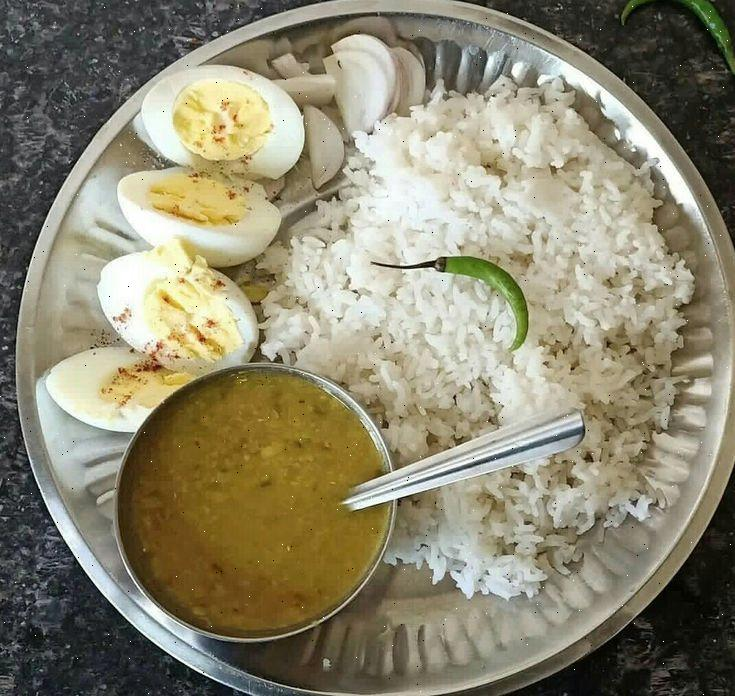daal: (127, 426, 373, 597)
eggs: (70, 54, 280, 410)
rice: (343, 109, 670, 555)
